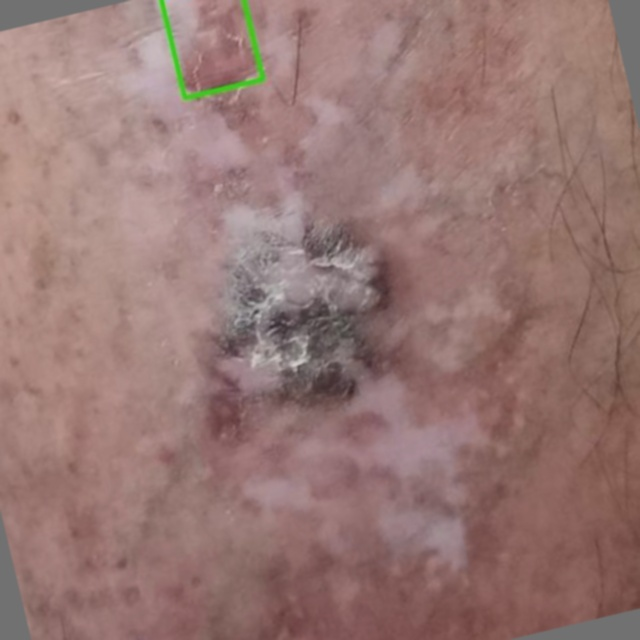Eczema: (161, 0, 262, 97)
